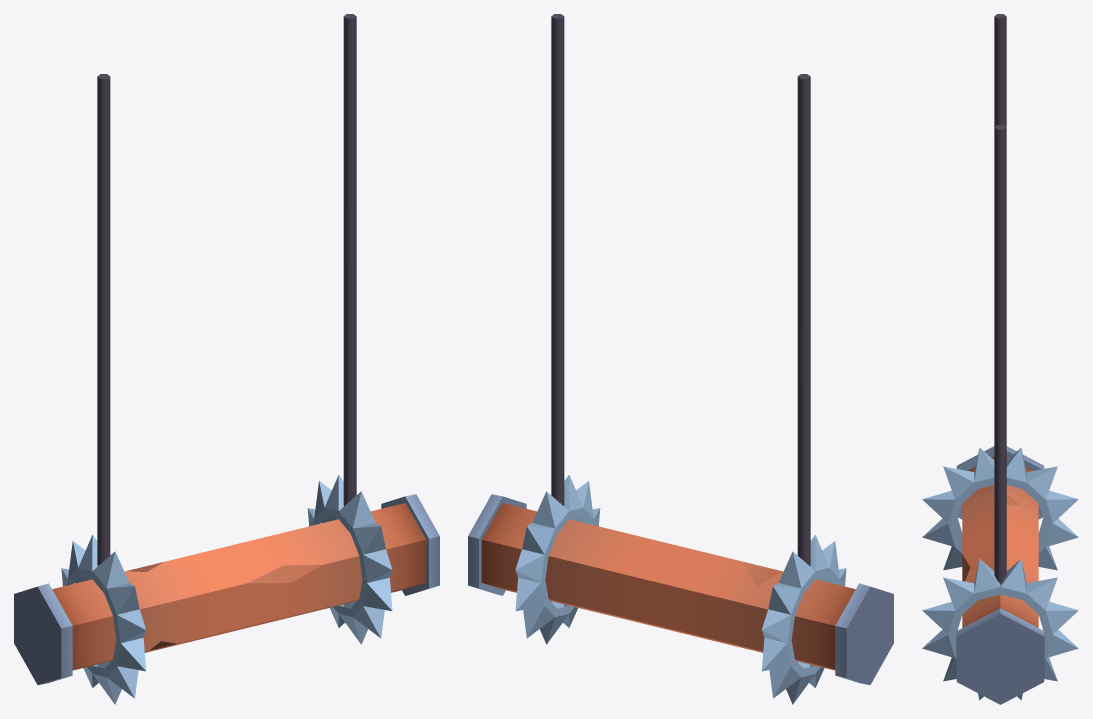
Rendered from Log.fbx.
3 views of the same model, side by side, from view 1: azimuth 30°, elevation 25°; view 2: azimuth 150°, elevation 25°; view 3: azimuth 270°, elevation 25° (orthographic). The views are drawn at different scales.
Visible parts, largest first — view 1: Log; view 2: Log; view 3: Log.
Part boxes in pixels (x1,y1,x2,y2): Log: (14, 14, 439, 704); Log: (468, 14, 893, 704); Log: (922, 14, 1078, 704).
Size of the model in its own units: 223 by 349 by 86.45.
